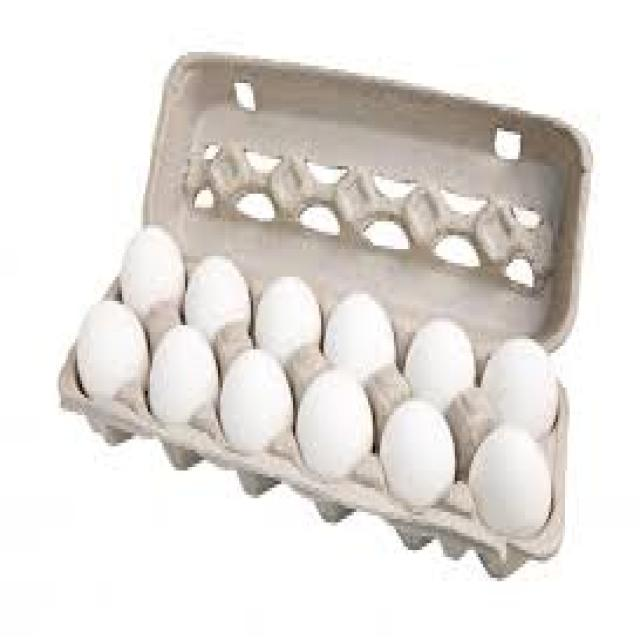White Egg: (118, 217, 562, 567)
